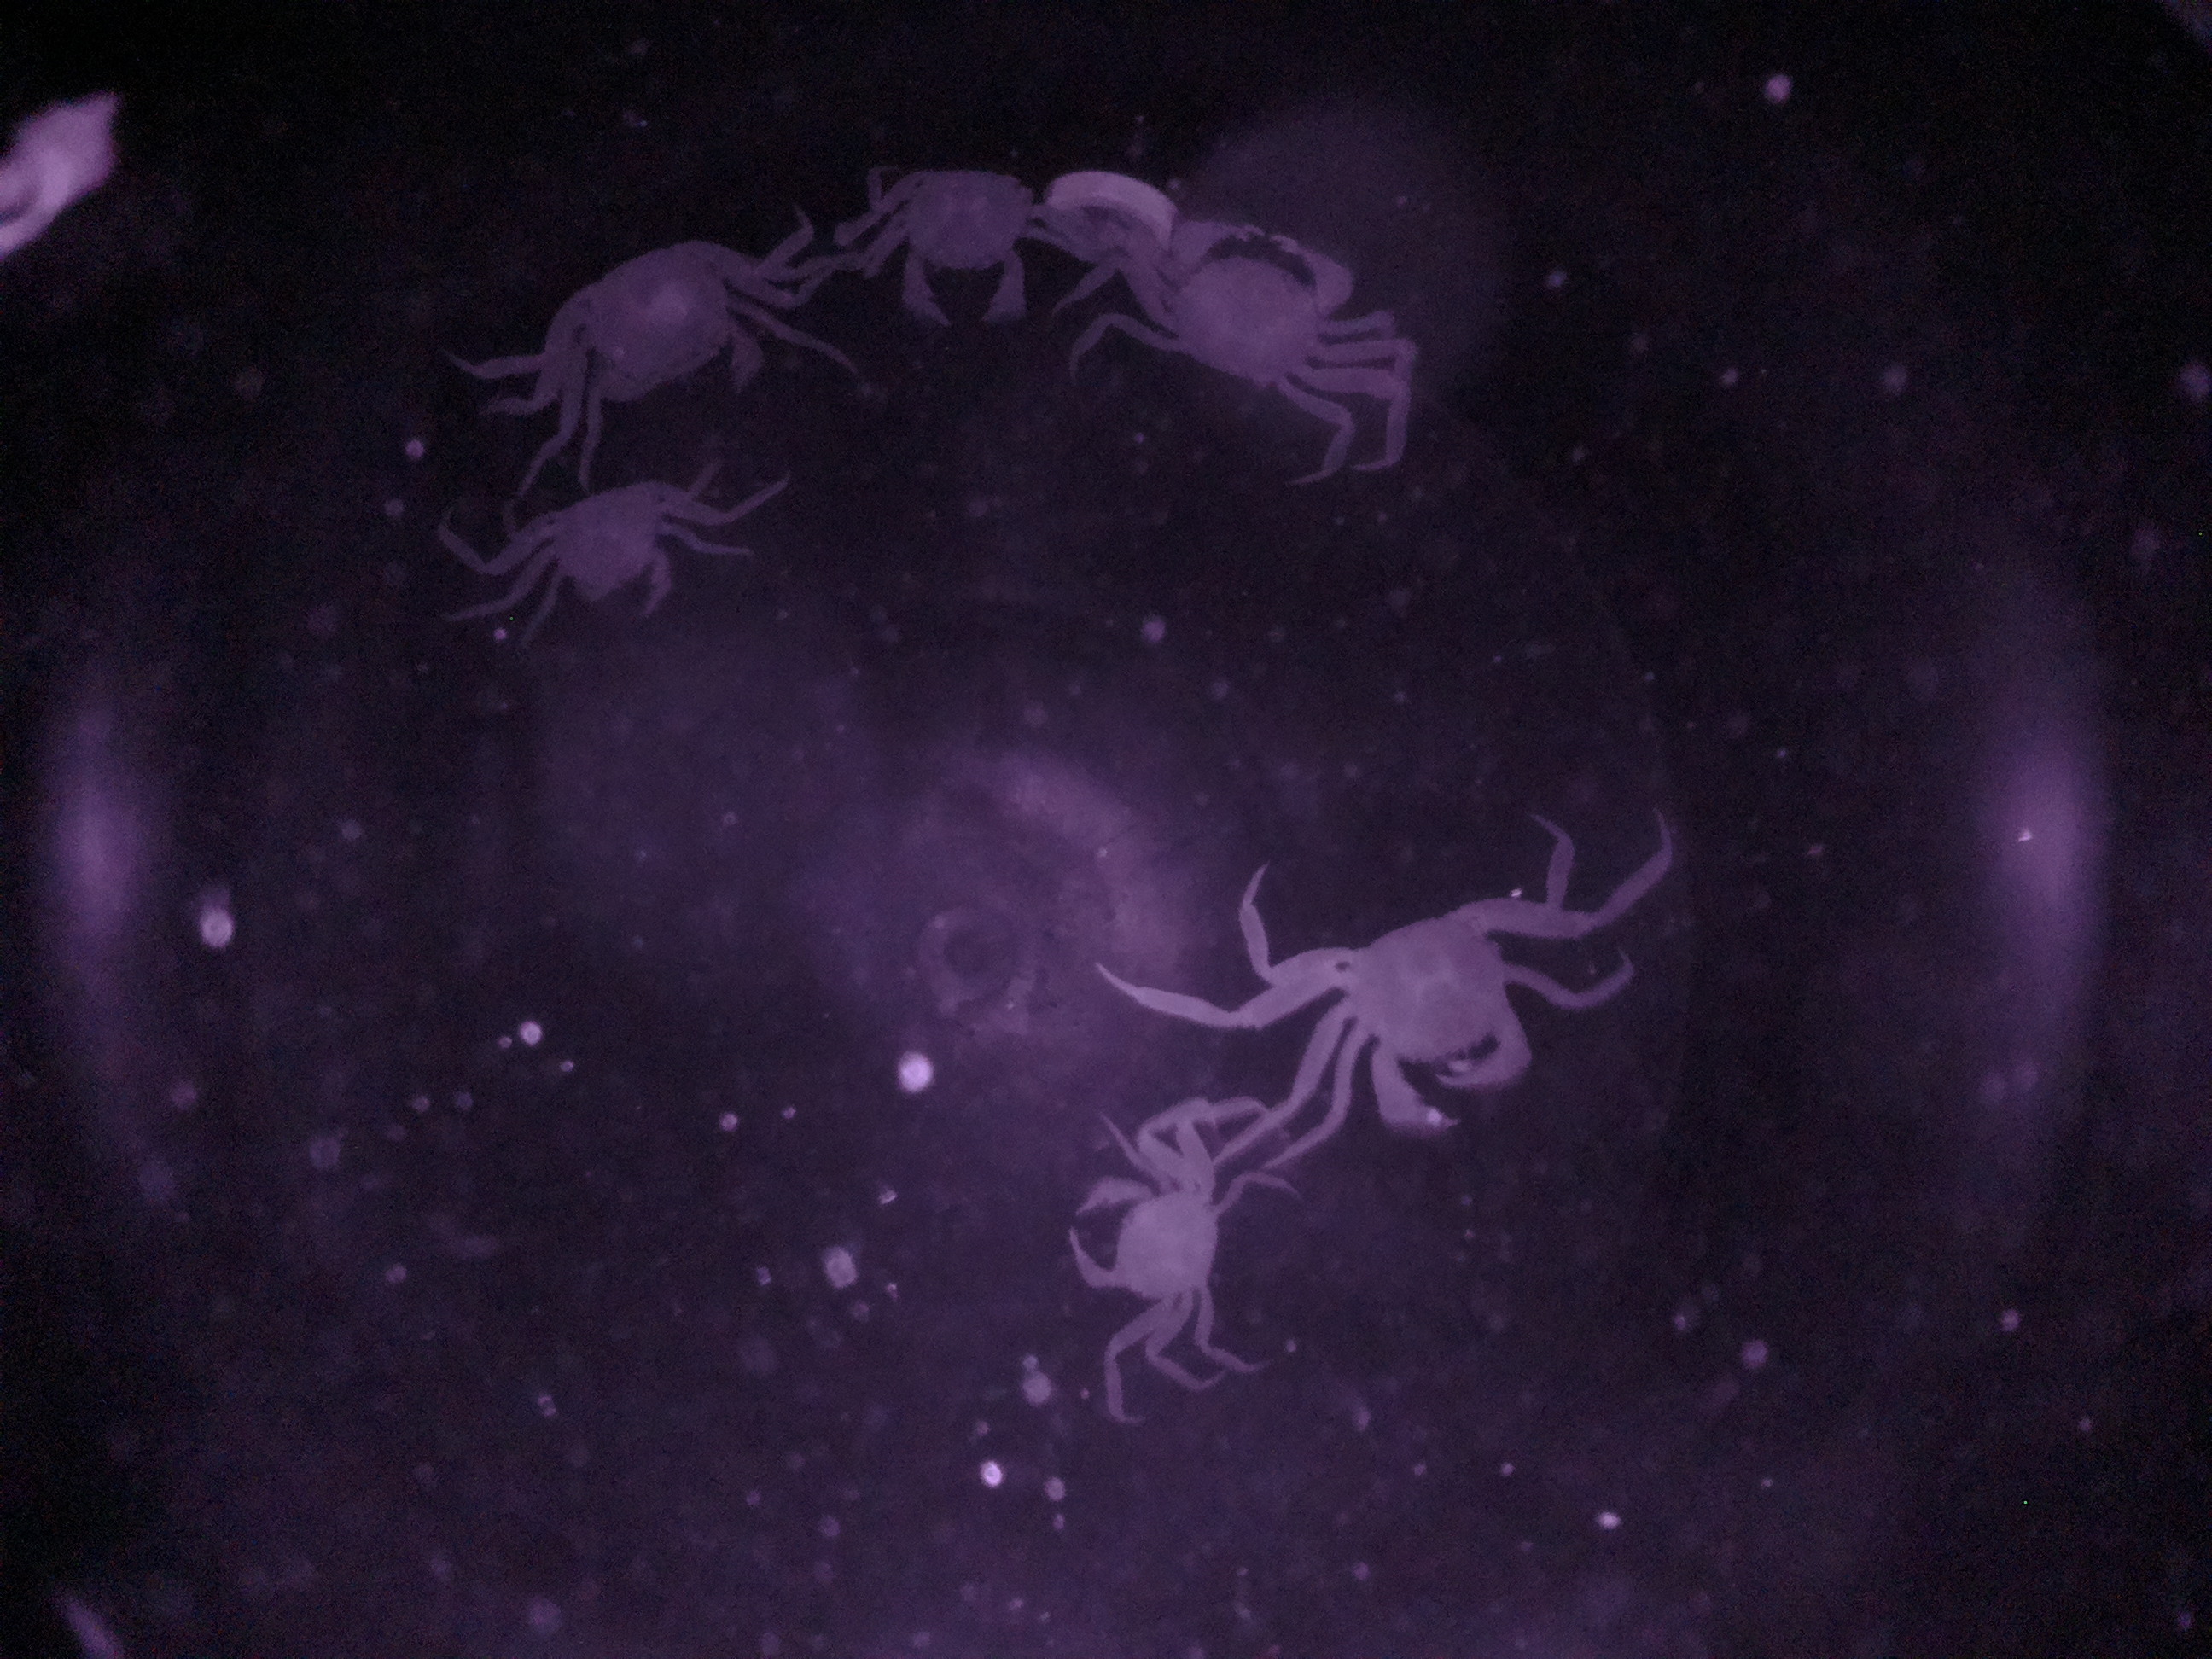Crab: (1266, 871, 1583, 1143), (1101, 207, 1381, 420), (475, 460, 730, 643), (1064, 1129, 1247, 1338)
